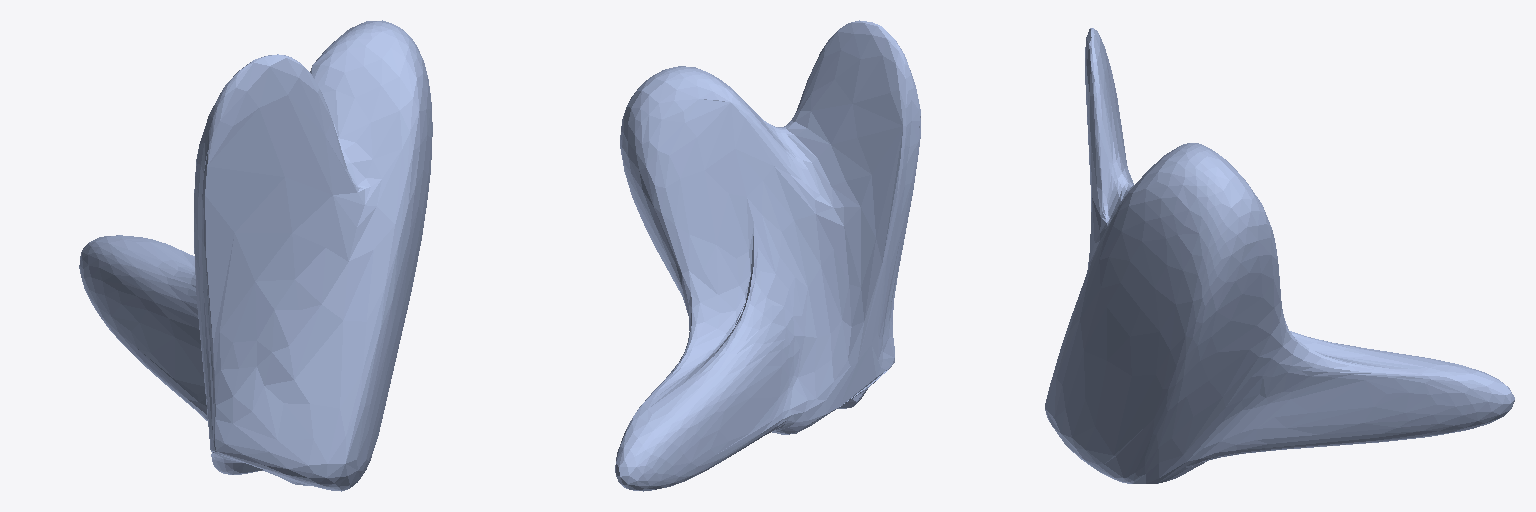
URDF robot description (blob779):

<robot name="blob779">
  <link name="random_obj_779">
    <contact>
      <lateral_friction value="1.0"/>
      <rolling_friction value="0.0"/>
      <inertia_scaling value="3.0"/>
      <contact_cfm value="0.0"/>
      <contact_erp value="1.0"/>
    </contact>
    <inertial>
      <origin rpy="0 0 0" xyz="0 0 0"/>
      <mass value="0.0200"/>
      <inertia ixx="1" ixy="0" ixz="0" iyy="1" iyz="0" izz="0"/>
    </inertial>
    <visual>
      <origin rpy="0 0 0" xyz="0 0 0"/>
      <geometry>
        <mesh filename="779.obj" scale="0.0079 0.0079 0.0079"/>
      </geometry>
      <material name="blockmat">
        <color rgba="0.72 0.78 0.92 1"/>
      </material>
    </visual>
    <collision>
      <origin rpy="0 0 0" xyz="0 0 0"/>
      <geometry>
        <mesh filename="779_coll.obj" scale="0.0079 0.0079 0.0079"/>
      </geometry>
    </collision>
  </link>
</robot>

--- What the picture shows (computed from the rendered views, not written in the file) ---
3 views of the same robot in one strip: view 1: azimuth 30°, elevation 25°; view 2: azimuth 150°, elevation 25°; view 3: azimuth 270°, elevation 25° (orthographic).
Robot: blob779 — 1 links, 0 joints (none); root link random_obj_779; default pose: all joints at 0.
Visible links, largest first — view 1: random_obj_779; view 2: random_obj_779; view 3: random_obj_779.
Link boxes in pixels (bbox=[...]): random_obj_779: bbox=[79, 20, 432, 491]; random_obj_779: bbox=[615, 20, 920, 491]; random_obj_779: bbox=[1045, 28, 1514, 483].
Size in the robot's own frame: 0.0647 by 0.1033 by 0.0999 metres.
1 mesh visuals loaded from 1 distinct referenced files (1 OBJ).
